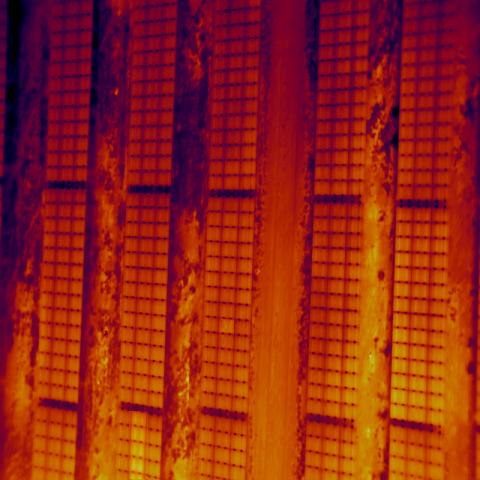fault: (129, 411, 148, 479)
